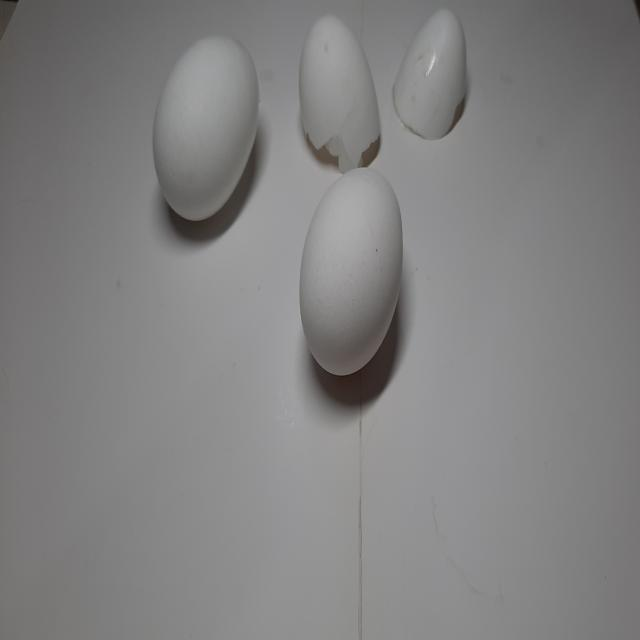egg shell: (296, 164, 406, 384), (150, 24, 264, 232), (296, 5, 384, 176), (390, 1, 470, 146)
